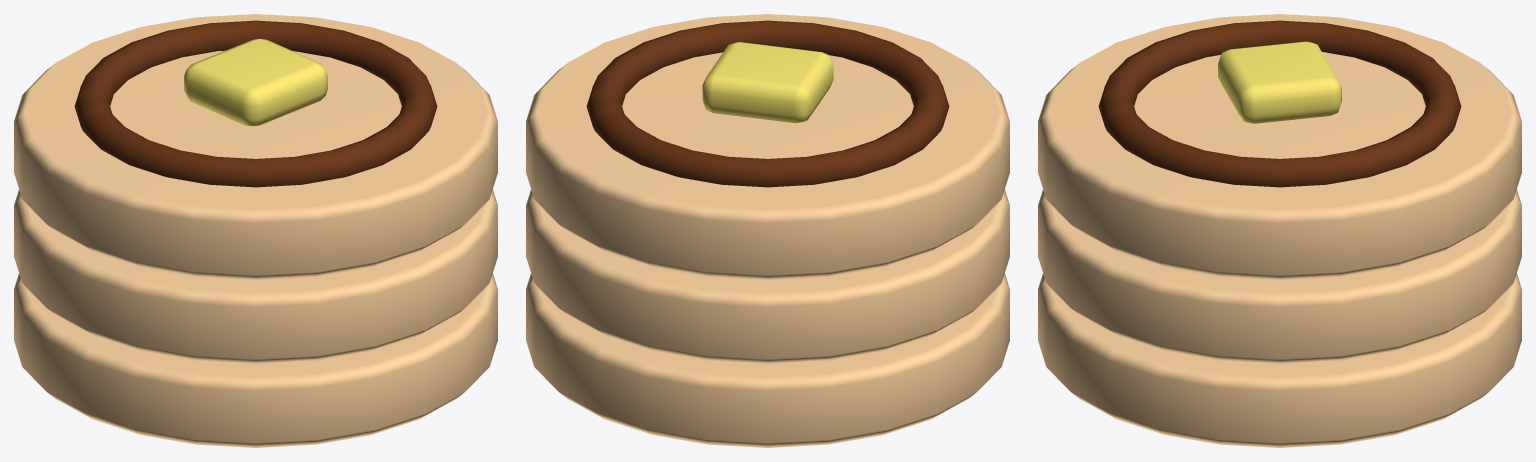
File: pancake.glb
The picture shows the model from 3 angles, left to right: view 1: azimuth 30°, elevation 25°; view 2: azimuth 150°, elevation 25°; view 3: azimuth 270°, elevation 25°; orthographic projection.
Visible parts, largest first — view 1: pancake; view 2: pancake; view 3: pancake.
Part boxes in pixels (box(x1,y1,x2,y2)): pancake: box(14, 14, 497, 447); pancake: box(526, 14, 1009, 447); pancake: box(1038, 14, 1521, 447).
Size of the model in its own units: 1 by 0.6544 by 1.
1 material, 1 textured.
